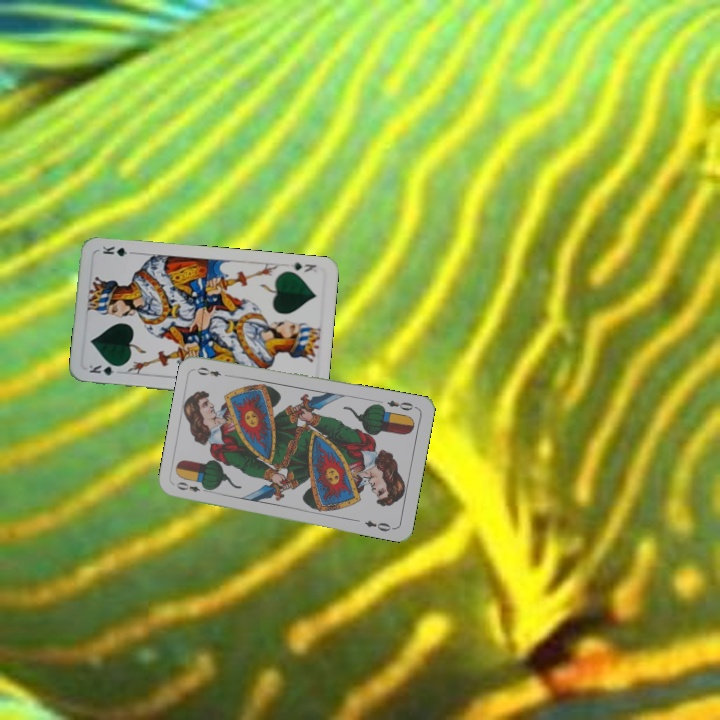EO: (172, 478, 212, 495), (383, 396, 419, 413)
GK: (85, 361, 124, 378), (287, 258, 318, 275)
